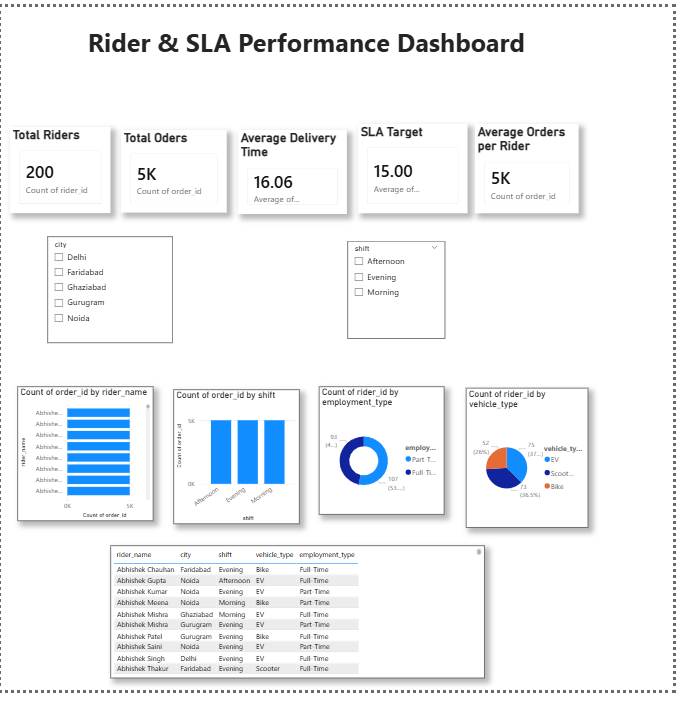

The page's visual inventory and layout, read from the dashboard file:
{"tool":"powerbi","page":{"name":"Page 3","canvas":[1280,1300],"ordinal":2},"visuals":[{"type":"textbox","box":[160,28.6,975.7,91.4],"z":0},{"type":"cardVisual","title":"Total Riders","fields":{"Data":["CountNonNull(Riders.rider_id)"]},"box":[17.1,228.6,191.4,164.3],"z":1},{"type":"cardVisual","title":"Total Oders","fields":{"Data":["CountNonNull(Orders (1).order_id)"]},"box":[227.1,234.3,201.4,157.1],"z":2},{"type":"cardVisual","title":"Average Delivery Time ","fields":{"Data":["Avg(Orders (1).actual_delivery_minutes)"]},"box":[451.4,232.9,207.1,160],"z":3},{"type":"cardVisual","title":"SLA Target","fields":{"Data":["Avg(Orders (1).sla_target_minutes)"]},"box":[680,222.9,208.6,170],"z":4},{"type":"cardVisual","title":"Average Orders per Rider","fields":{"Data":["CountNonNull(Orders (1).order_id)"]},"box":[902.9,222.9,197.1,170],"z":5},{"type":"clusteredBarChart","fields":{"Category":["Riders.rider_name"],"Y":["CountNonNull(Orders (1).order_id)"]},"box":[30,721.4,258.6,255.7],"z":6},{"type":"slicer","fields":{"Values":["Stores.city"]},"box":[88.6,437.1,238.6,202.9],"z":8},{"type":"slicer","fields":{"Values":["Riders.shift"]},"box":[658.6,445.7,185.7,185.7],"z":9},{"type":"clusteredColumnChart","fields":{"Category":["Riders.shift"],"Y":["CountNonNull(Orders (1).order_id)"]},"box":[328.6,730,240,255.7],"z":10},{"type":"donutChart","fields":{"Category":["Riders.employment_type"],"Y":["CountNonNull(Riders.rider_id)"]},"box":[605.7,721.4,238.6,244.3],"z":11},{"type":"pieChart","fields":{"Category":["Riders.vehicle_type"],"Y":["CountNonNull(Riders.rider_id)"]},"box":[884.3,725.7,232.9,265.7],"z":12},{"type":"tableEx","fields":{"Values":["Riders.rider_name","Stores.city","Riders.shift","Riders.vehicle_type","Riders.employment_type"]},"box":[208.6,1025.7,712.9,252.9],"z":13}]}

Visuals, with their boxes on the page's 1280x1300 design canvas (x1, y1, x2, y2). These are canvas units, not pixel positions in the 677x709 screenshot, which may show the page scaled, cropped or inside an application window:
textbox: box(160, 29, 1136, 120)
"Total Riders" cardVisual: box(17, 229, 208, 393)
"Total Oders" cardVisual: box(227, 234, 428, 391)
"Average Delivery Time " cardVisual: box(451, 233, 658, 393)
"SLA Target" cardVisual: box(680, 223, 889, 393)
"Average Orders per Rider" cardVisual: box(903, 223, 1100, 393)
clusteredBarChart - Riders.rider_name x CountNonNull(Orders (1).order_id): box(30, 721, 289, 977)
slicer - Stores.city: box(89, 437, 327, 640)
slicer - Riders.shift: box(659, 446, 844, 631)
clusteredColumnChart - Riders.shift x CountNonNull(Orders (1).order_id): box(329, 730, 569, 986)
donutChart - Riders.employment_type x CountNonNull(Riders.rider_id): box(606, 721, 844, 966)
pieChart - Riders.vehicle_type x CountNonNull(Riders.rider_id): box(884, 726, 1117, 991)
tableEx - Riders.rider_name x Stores.city: box(209, 1026, 922, 1279)
